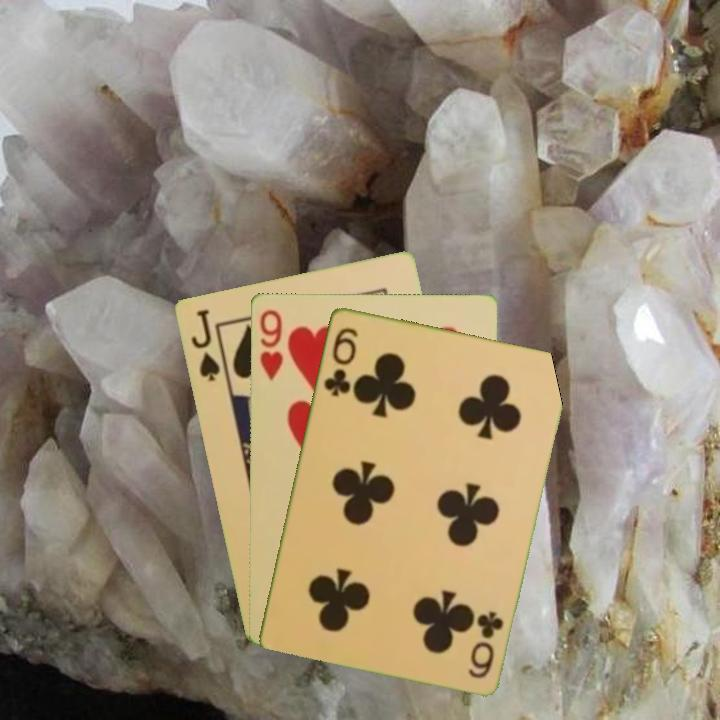6c: (319, 323, 360, 399), (464, 607, 506, 681)
9h: (256, 306, 285, 383)
Js: (187, 305, 223, 384)
